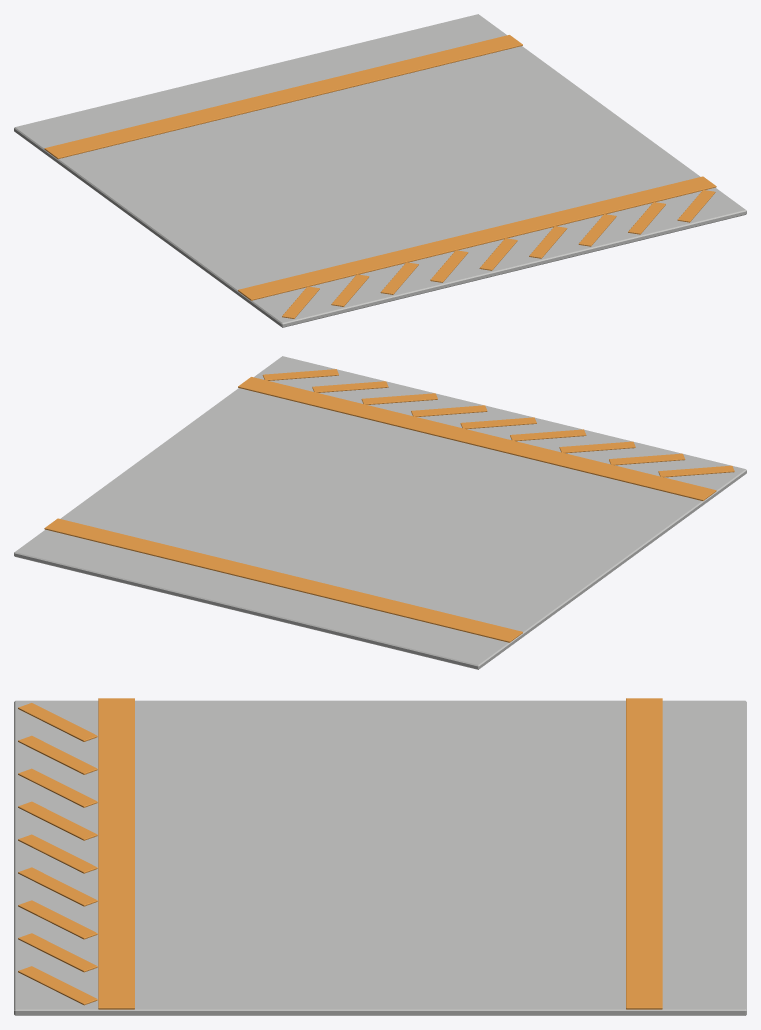
Rendered from aisle-floor-marking-tile.glb.
3 views of the same model, one above another, from view 1: azimuth 30°, elevation 25°; view 2: azimuth 150°, elevation 25°; view 3: azimuth 270°, elevation 25° (orthographic). The views are drawn at different scales.
Parts seen in each view (by area): view 1: aisle-floor-marking-tile; view 2: aisle-floor-marking-tile; view 3: aisle-floor-marking-tile.
Part boxes in pixels (<box>): aisle-floor-marking-tile: <box>14,14,746,327</box>; aisle-floor-marking-tile: <box>14,356,746,669</box>; aisle-floor-marking-tile: <box>14,698,746,1015</box>.
Bounding box in the file's own units: 2 × 0.0261 × 2.
